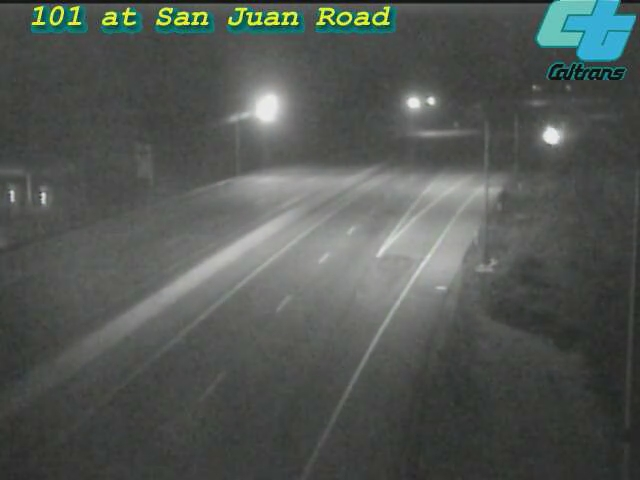vehicle: (528, 112, 578, 162)
